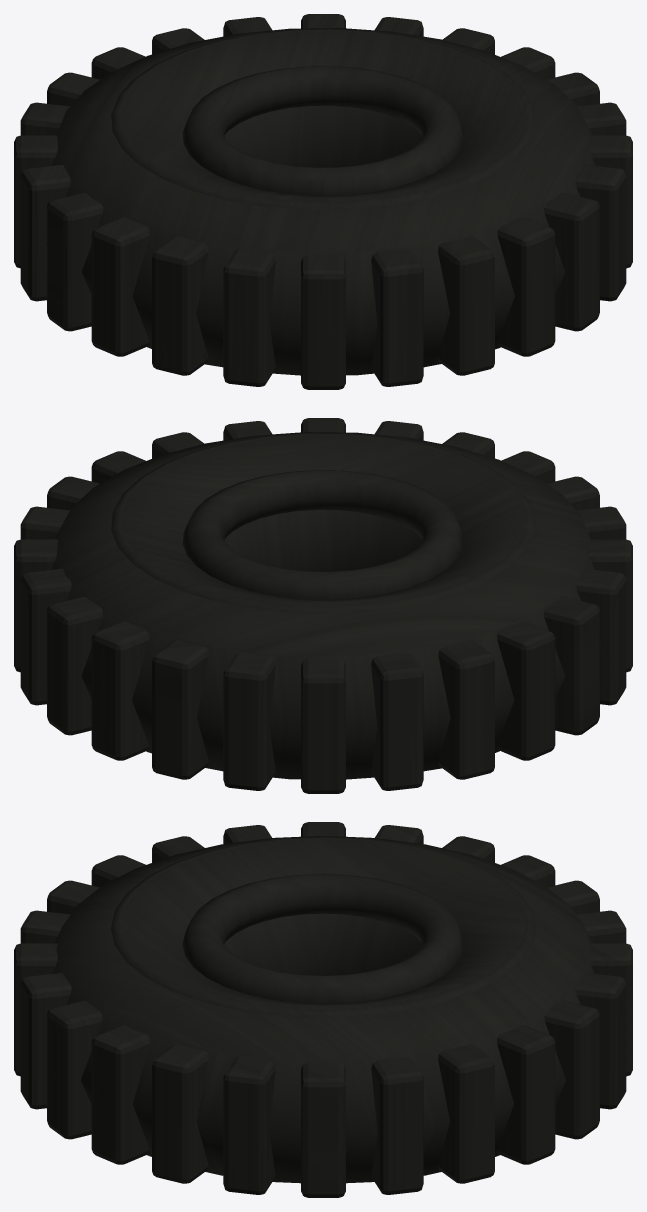
File: loose-tyre.obj
3 renders of one model, top to bottom at view 1: azimuth 30°, elevation 25°; view 2: azimuth 150°, elevation 25°; view 3: azimuth 270°, elevation 25°, orthographic.
Visible parts, largest first — view 1: loose-tyre; view 2: loose-tyre; view 3: loose-tyre.
Boxes of the visible parts, x1,y1,x2,y2 form: loose-tyre: [14, 14, 632, 389]; loose-tyre: [14, 418, 632, 793]; loose-tyre: [14, 822, 632, 1197].
Bounding box in the file's own units: 1.03 × 0.32 × 1.03.
1 material, 1 textured.
